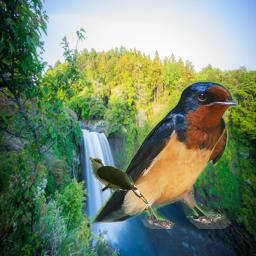Cuckoo: (87, 157, 149, 204)
Swallow: (89, 80, 238, 229)
